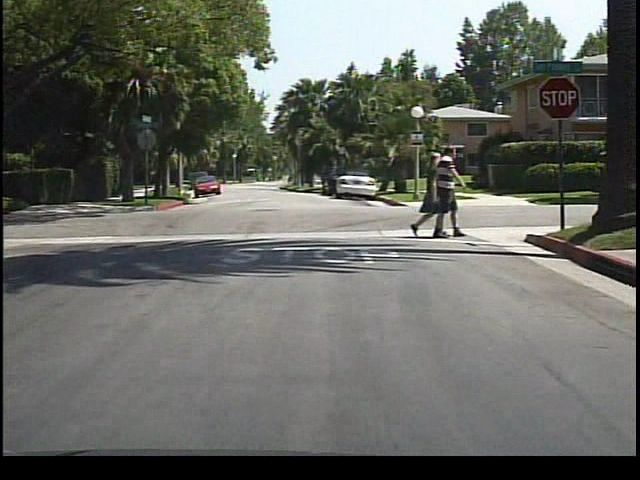person: (437, 144, 470, 241), (413, 151, 443, 240)
